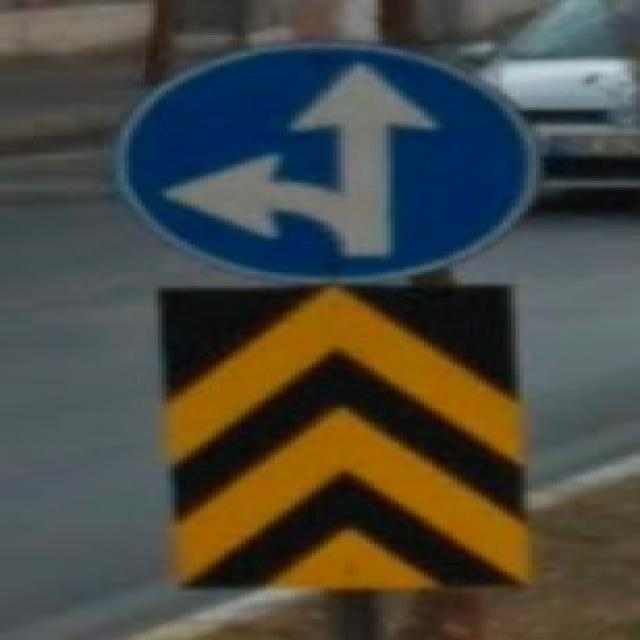Straight or Left: (118, 44, 542, 283)
